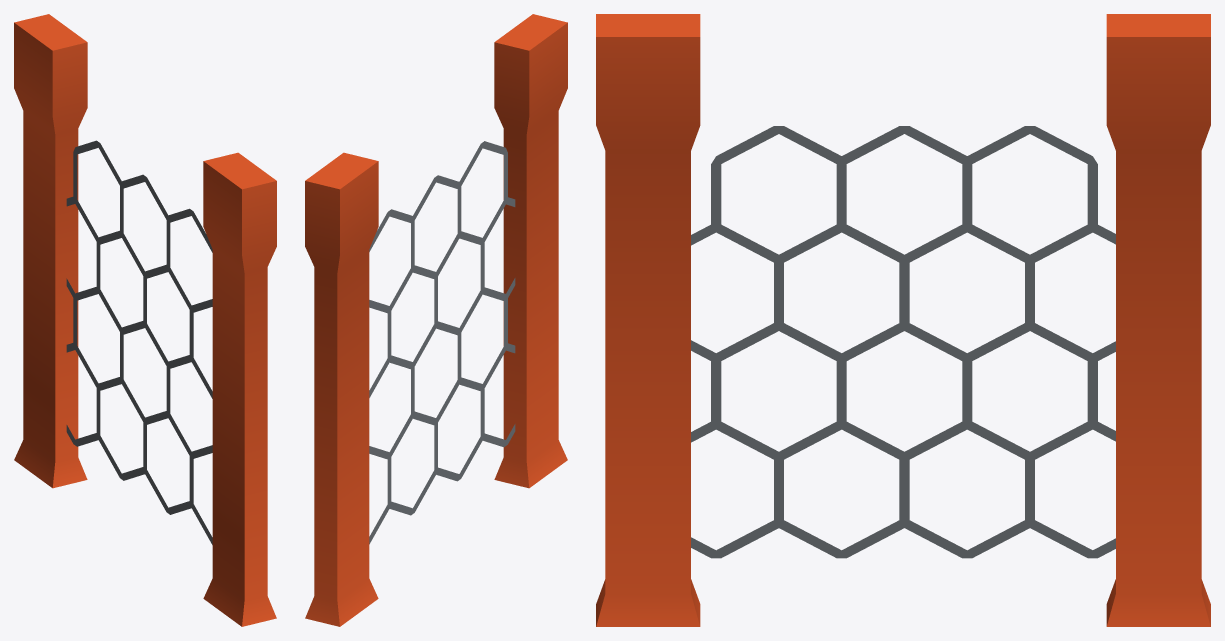
The model's file is Tejido_01.fbx.
3 renders of one model, left to right at view 1: azimuth 30°, elevation 25°; view 2: azimuth 150°, elevation 25°; view 3: azimuth 270°, elevation 25°, orthographic. The views are drawn at different scales.
Parts seen in each view (by area): view 1: Tejido_01; view 2: Tejido_01; view 3: Tejido_01.
Part boxes in pixels (box(x1,y1,x2,y2)): Tejido_01: box(14, 14, 276, 626); Tejido_01: box(305, 14, 567, 626); Tejido_01: box(596, 14, 1210, 626).
Bounding box in the file's own units: 37.51 × 449 × 424.
